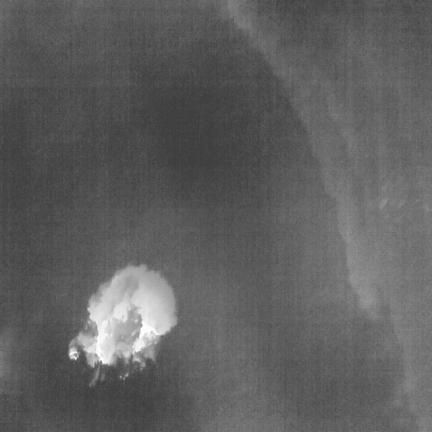flukeprints: (70, 265, 176, 366)
